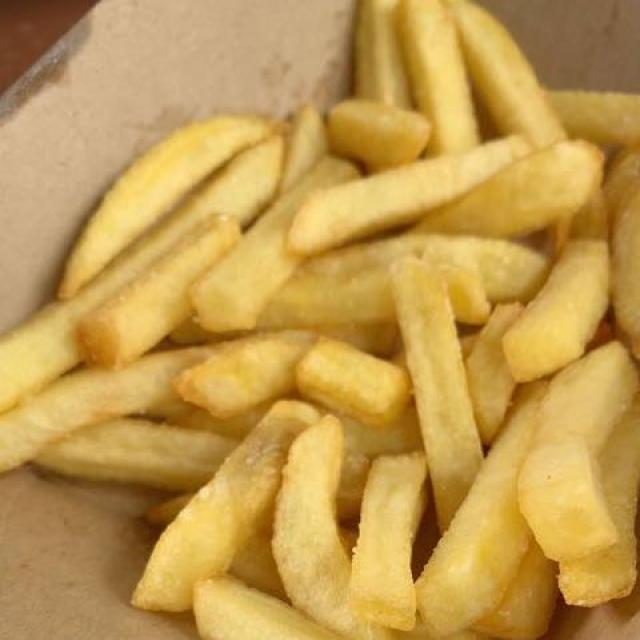chips-french-fries: (14, 17, 637, 633)
